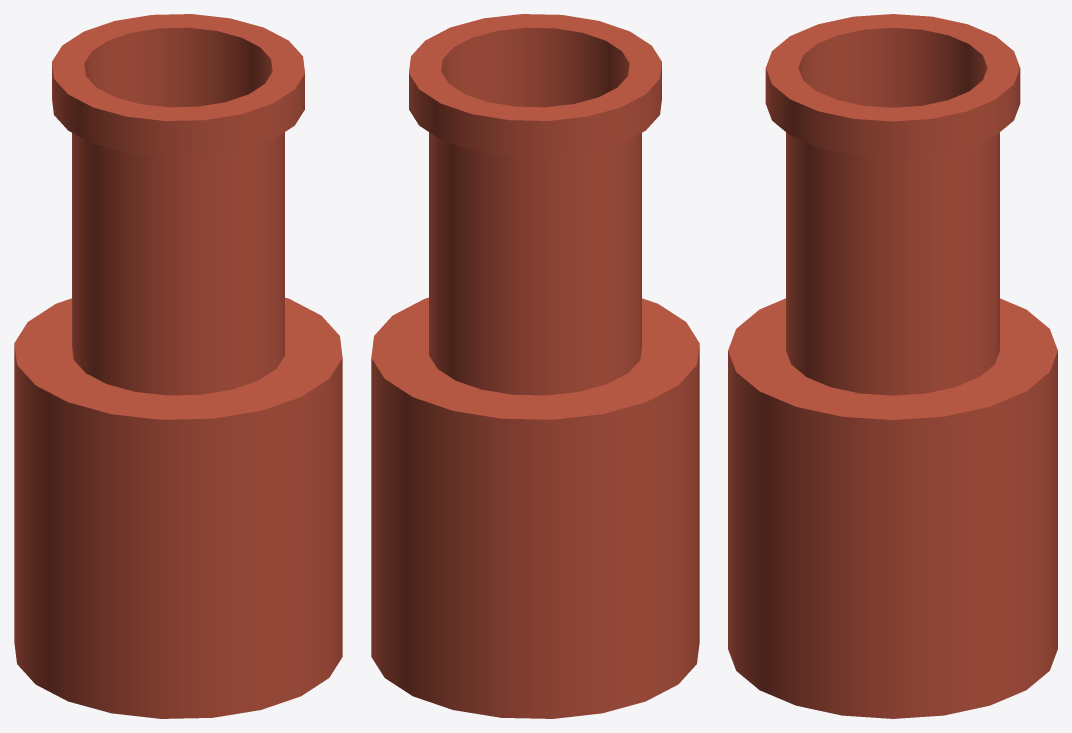
Rendered from syringe_cap.fbx.
3 renders of one model, left to right at view 1: azimuth 30°, elevation 25°; view 2: azimuth 150°, elevation 25°; view 3: azimuth 270°, elevation 25°, orthographic.
Visible parts, largest first — view 1: syringe_cap; view 2: syringe_cap; view 3: syringe_cap.
Part boxes in pixels (<box>): syringe_cap: <box>14,14,342,718</box>; syringe_cap: <box>371,14,699,718</box>; syringe_cap: <box>728,14,1057,718</box>.
Size of the model in its own units: 2 by 3.89 by 2.
